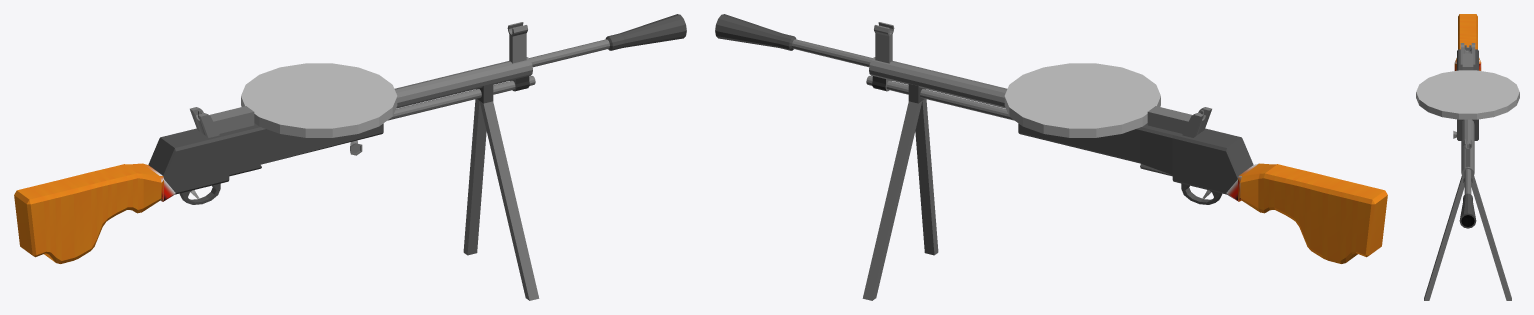
The picture shows the model from 3 angles, left to right: view 1: azimuth 30°, elevation 25°; view 2: azimuth 150°, elevation 25°; view 3: azimuth 270°, elevation 25°; orthographic projection. The views are drawn at different scales.
Parts seen in each view (by area): view 1: Cube, Circle, Cylinder, Cube.001, Cylinder.001, Cube.003, Cube.006; view 2: Cube, Circle, Cylinder, Cube.001, Cylinder.001, Cube.003, Cube.006; view 3: Circle, Cube.001, Cylinder, Cube, Cube.003, Cube.006.
Boxes of the visible parts, x1,y1,x2,y2 form: Cube: (14, 123, 383, 263); Circle: (241, 63, 397, 137); Cylinder: (394, 14, 686, 108); Cube.001: (463, 84, 539, 300); Cylinder.001: (387, 76, 535, 120); Cube.003: (190, 106, 254, 137); Cube.006: (507, 22, 527, 63); Cube: (1018, 123, 1387, 263); Circle: (1004, 63, 1160, 137); Cylinder: (715, 14, 1007, 108); Cube.001: (862, 84, 938, 300); Cylinder.001: (866, 76, 1014, 120); Cube.003: (1147, 106, 1211, 137); Cube.006: (874, 22, 894, 63); Circle: (1416, 70, 1519, 119); Cube.001: (1424, 176, 1511, 300); Cylinder: (1459, 119, 1476, 228); Cube: (1454, 14, 1481, 140); Cube.003: (1460, 43, 1475, 70); Cube.006: (1463, 139, 1472, 166).
Bounding box in the file's own units: 975 × 347 × 200.
